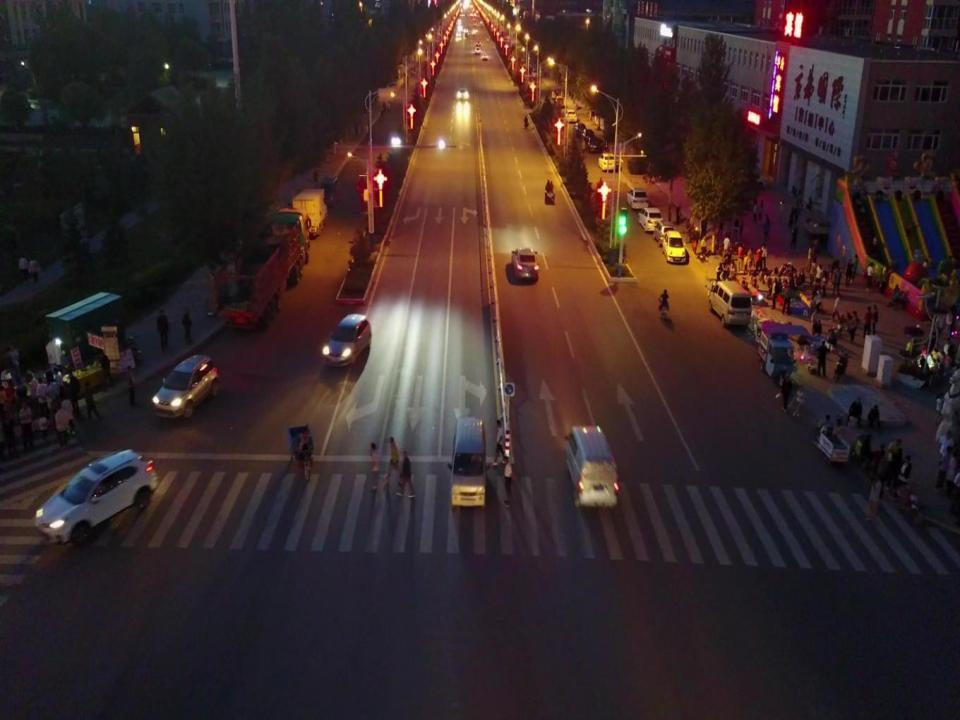car: (28, 448, 160, 545), (148, 354, 220, 422), (317, 311, 370, 367), (507, 244, 540, 281), (662, 227, 687, 265), (621, 185, 646, 212), (640, 204, 664, 232), (652, 218, 672, 245), (594, 152, 617, 173)
truck: (207, 207, 310, 327), (286, 185, 330, 236)
van: (558, 422, 618, 516), (448, 416, 492, 508)
